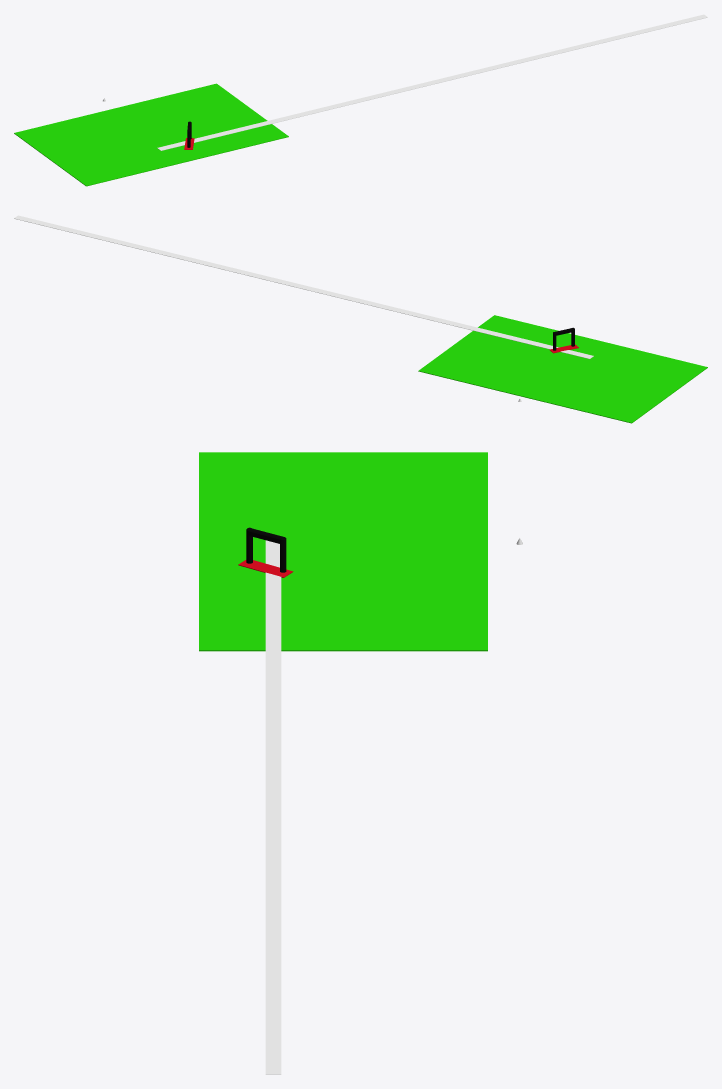
File: CircuitoCarreras.glb
3 views of the same model, one above another, from view 1: azimuth 30°, elevation 25°; view 2: azimuth 150°, elevation 25°; view 3: azimuth 270°, elevation 25° (orthographic). The views are drawn at different scales.
Visible parts, largest first — view 1: Plane.002, Plane; view 2: Plane.002, Plane; view 3: Plane.002, Plane.
Boxes of the visible parts, x1,y1,x2,y2 form: Plane.002: (14,83,288,186); Plane: (157,14,707,150); Plane.002: (418,315,707,423); Plane: (14,215,593,358); Plane.002: (199,452,487,651); Plane: (265,540,281,1074).
Size of the model in its own units: 445 by 12.44 by 97.94.
